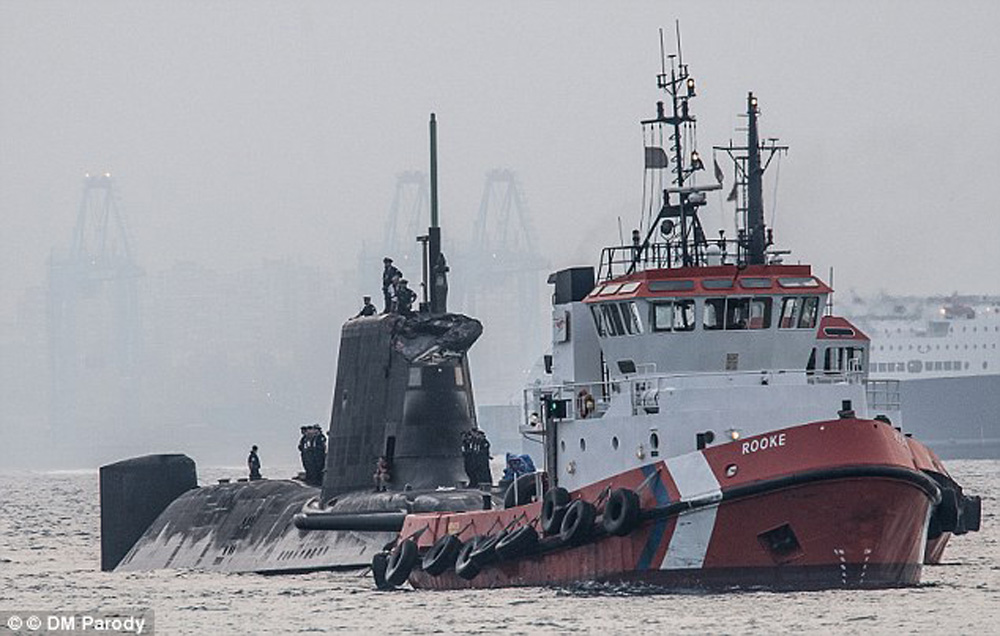otherboat: (362, 51, 975, 592)
